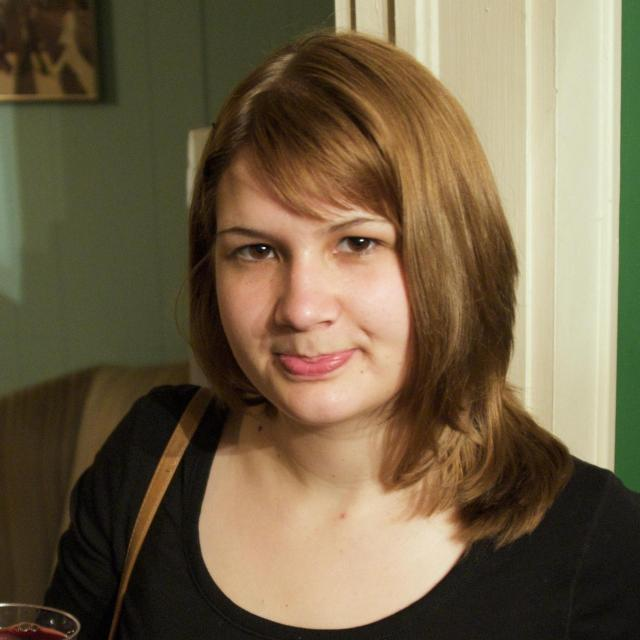no-glass: (223, 238, 384, 268)
